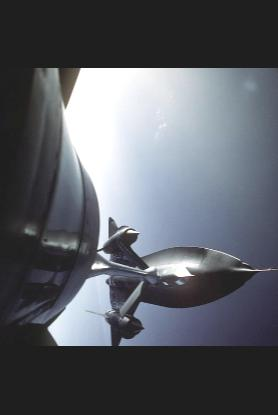Rafale: (83, 216, 277, 346)
